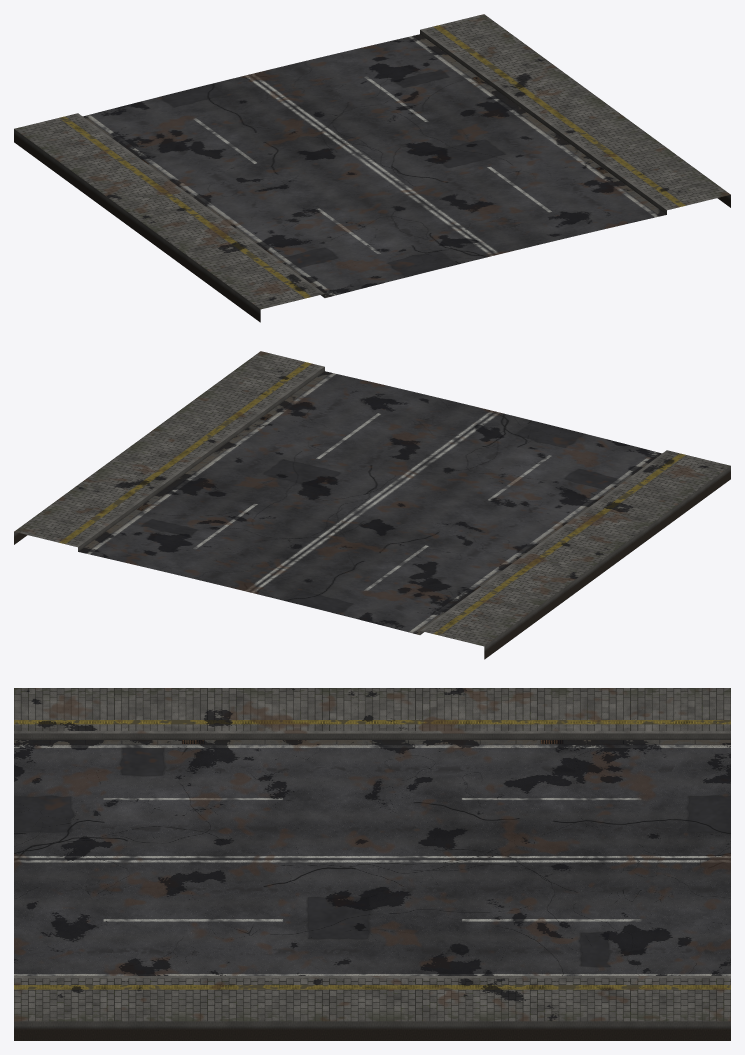
The model's file is Road_Straight.fbx.
3 views of the same model, one above another, from view 1: azimuth 30°, elevation 25°; view 2: azimuth 150°, elevation 25°; view 3: azimuth 270°, elevation 25° (orthographic). The views are drawn at different scales.
Visible parts, largest first — view 1: Road_Straight; view 2: Road_Straight; view 3: Road_Straight.
Part boxes in pixels (x1,y1,x2,y2): Road_Straight: [14, 14, 730, 322]; Road_Straight: [14, 351, 730, 659]; Road_Straight: [14, 688, 730, 1040].
Size of the model in its own units: 2200 by 60 by 2000.
